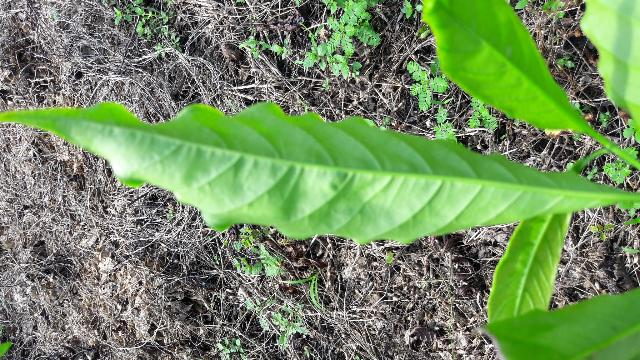healthy: (0, 97, 632, 251)
